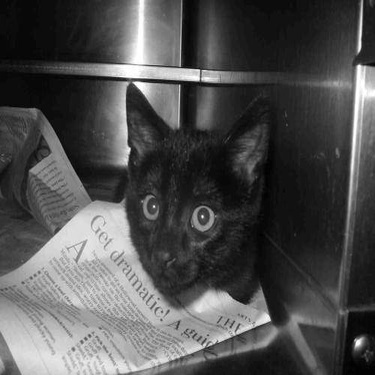cat: (124, 79, 274, 303)
